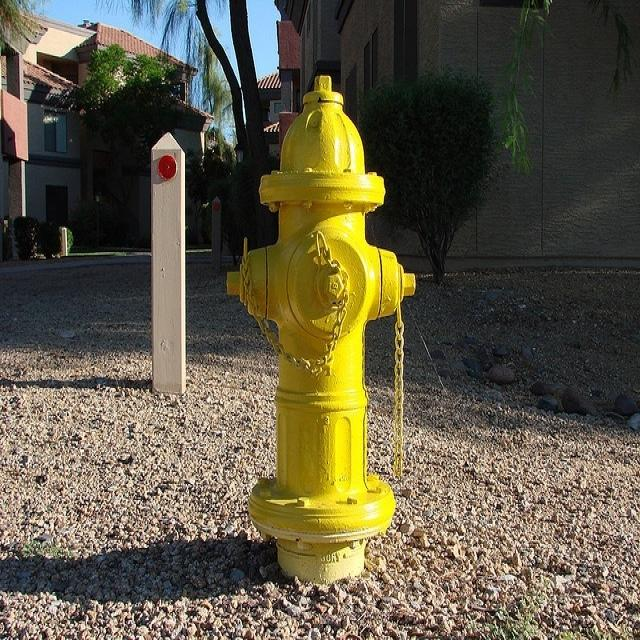fire_hydrant: (233, 65, 440, 602)
